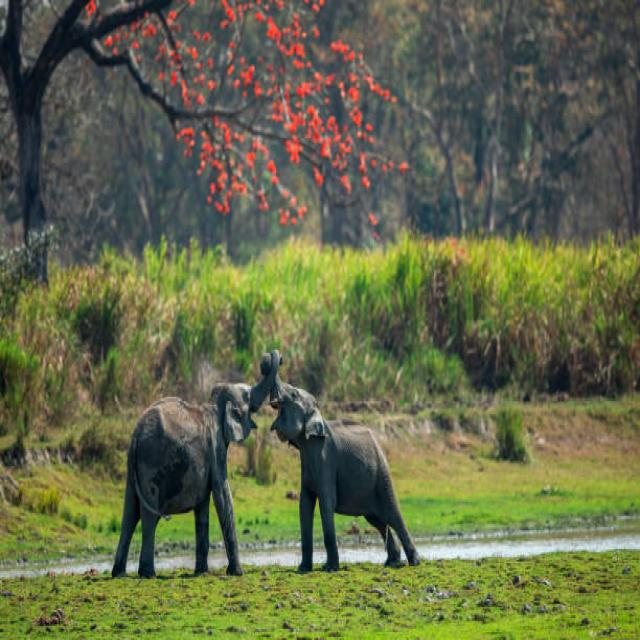Elephant: (263, 337, 430, 599), (110, 379, 278, 577)
